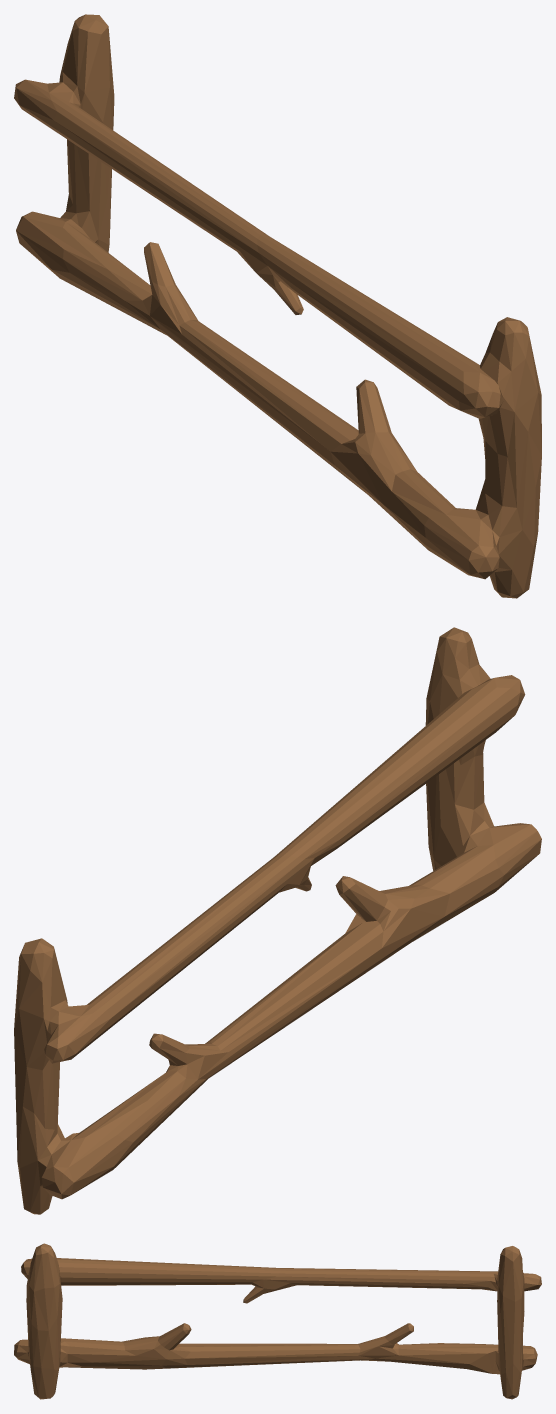
Rendered from Fence.dae.
3 renders of one model, top to bottom at view 1: azimuth 30°, elevation 25°; view 2: azimuth 150°, elevation 25°; view 3: azimuth 270°, elevation 25°, orthographic. The views are drawn at different scales.
Parts seen in each view (by area): view 1: Cube; view 2: Cube; view 3: Cube.
Part boxes in pixels (bbox=[...]): Cube: bbox=[14, 14, 541, 598]; Cube: bbox=[14, 627, 541, 1214]; Cube: bbox=[14, 1243, 541, 1399].
Bounding box in the file's own units: 0.6848 × 6.1 × 1.96.
1 material, 1 textured.
